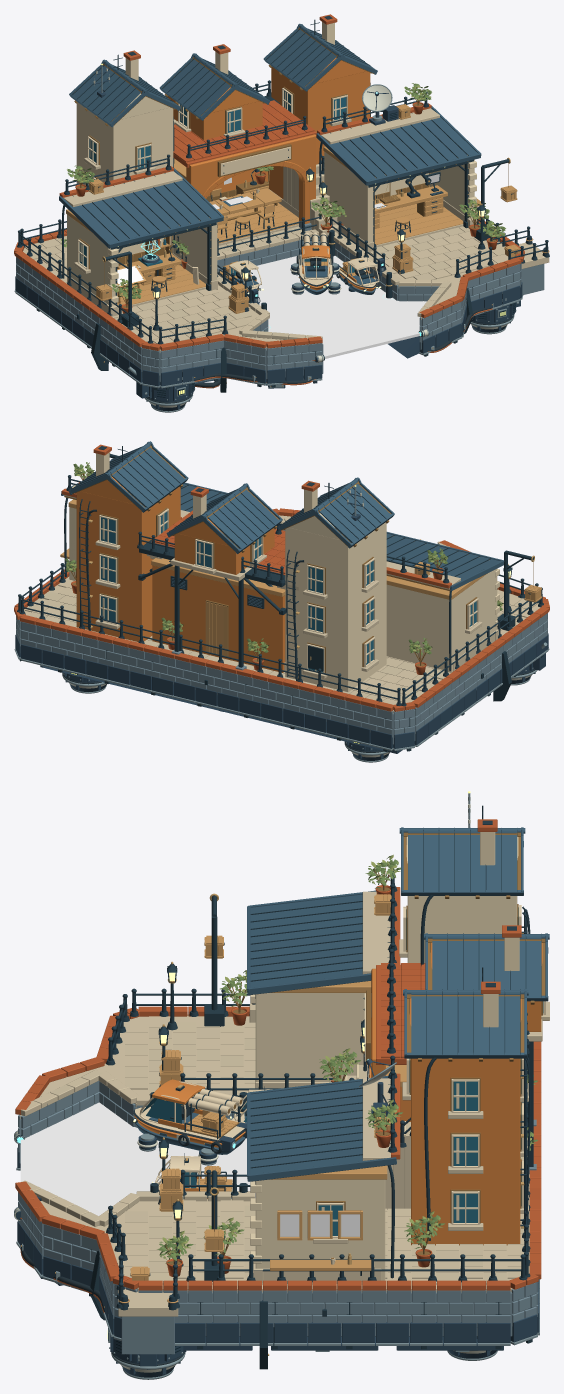
Rendered from chongzhen-refined-v3.glb.
3 views of the same model, one above another, from view 1: azimuth 30°, elevation 25°; view 2: azimuth 150°, elevation 25°; view 3: azimuth 270°, elevation 25° (orthographic). The views are drawn at different scales.
Visible parts, largest first — view 1: harbor_slate, harbor_stone_paving, harbor_metal, harbor_plaster_cream, harbor_stone, harbor_wood, harbor_plaster_orange, harbor_plaster_clay, harbor_pool, harbor_alloy_armor (×2), harbor_wood_dark, harbor_paper (×2) (+7 smaller); view 2: harbor_plaster_cream, harbor_plaster_orange, harbor_metal, harbor_slate, harbor_stone, harbor_alloy_armor (×2), harbor_plaster_clay, harbor_stone_paving, harbor_paper, harbor_wood, harbor_wood_dark, harbor_glass (+3 smaller); view 3: harbor_slate (×2), harbor_stone_paving, harbor_plaster_cream, harbor_metal, harbor_stone, harbor_plaster_orange (×2), harbor_plaster_clay, harbor_alloy_armor (×2), harbor_pool, harbor_wood (×2), harbor_wood_dark, harbor_paper (×2) (+4 smaller).
Part boxes in pixels (bbox=[...]): harbor_slate: bbox=[59, 23, 481, 249]; harbor_stone_paving: bbox=[23, 108, 549, 352]; harbor_metal: bbox=[17, 15, 549, 392]; harbor_plaster_cream: bbox=[67, 22, 476, 305]; harbor_stone: bbox=[16, 221, 544, 382]; harbor_wood: bbox=[66, 104, 549, 313]; harbor_plaster_orange: bbox=[167, 57, 370, 223]; harbor_plaster_clay: bbox=[14, 14, 524, 350]; harbor_pool: bbox=[249, 256, 426, 358]; harbor_alloy_armor (×2): bbox=[15, 71, 522, 411]; harbor_wood_dark: bbox=[74, 27, 508, 308]; harbor_paper (×2): bbox=[77, 88, 396, 285]; harbor_plaster_cream: bbox=[69, 452, 499, 692]; harbor_plaster_orange: bbox=[76, 477, 285, 672]; harbor_metal: bbox=[17, 446, 543, 751]; harbor_slate: bbox=[61, 441, 504, 607]; harbor_stone: bbox=[16, 528, 547, 744]; harbor_alloy_armor (×2): bbox=[15, 493, 548, 760]; harbor_plaster_clay: bbox=[14, 444, 549, 711]; harbor_stone_paving: bbox=[24, 485, 540, 713]; harbor_paper: bbox=[99, 508, 478, 672]; harbor_wood: bbox=[60, 499, 541, 656]; harbor_wood_dark: bbox=[64, 445, 533, 673]; harbor_glass: bbox=[101, 512, 476, 672]; harbor_slate (×2): bbox=[135, 827, 549, 1181]; harbor_stone_paving: bbox=[20, 891, 549, 1316]; harbor_plaster_cream: bbox=[250, 832, 519, 1280]; harbor_metal: bbox=[40, 805, 541, 1369]; harbor_stone: bbox=[18, 1081, 538, 1354]; harbor_plaster_orange (×2): bbox=[134, 943, 542, 1245]; harbor_plaster_clay: bbox=[15, 819, 541, 1290]; harbor_alloy_armor (×2): bbox=[15, 808, 539, 1377]; harbor_pool: bbox=[20, 1102, 255, 1215]; harbor_wood (×2): bbox=[119, 894, 406, 1303]; harbor_wood_dark: bbox=[140, 832, 545, 1280]; harbor_paper (×2): bbox=[135, 905, 545, 1264].
Bounding box in the file's own units: 17.8 × 10.27 × 13.23.
